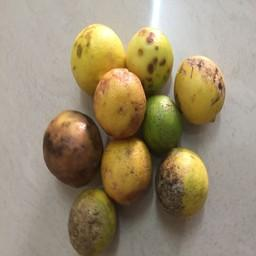Bad_lime: (40, 110, 100, 187), (176, 52, 227, 126), (157, 148, 210, 219), (65, 188, 120, 255), (100, 137, 152, 204), (126, 25, 174, 92), (94, 70, 143, 135), (71, 21, 104, 90)
